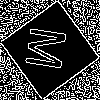M: (25, 25, 77, 73)
